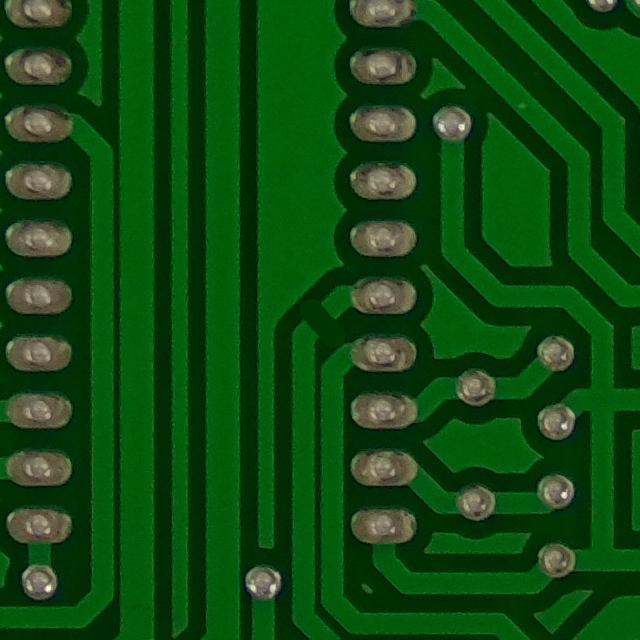open_circuit: (294, 296, 347, 344)
